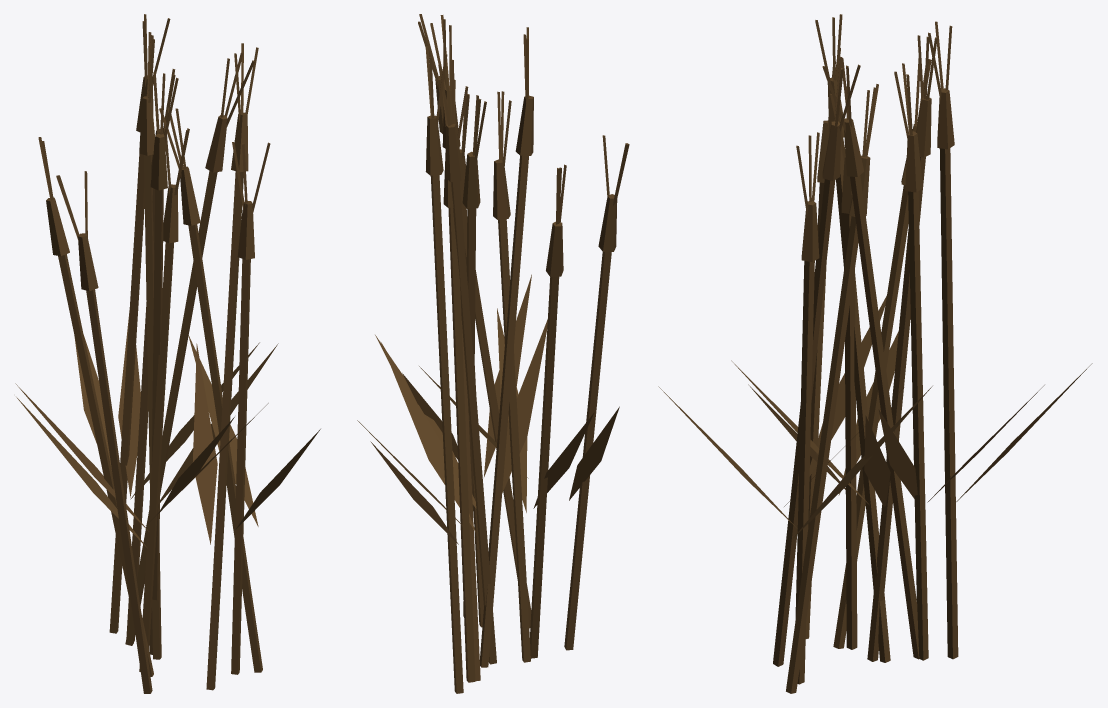
The model's file is barley_blight.glb.
3 renders of one model, left to right at view 1: azimuth 30°, elevation 25°; view 2: azimuth 150°, elevation 25°; view 3: azimuth 270°, elevation 25°, orthographic. The views are drawn at different scales.
Parts seen in each view (by area): view 1: barley; view 2: barley; view 3: barley.
Part boxes in pixels (left/top/right/bottom): barley: left=15, top=14, right=320, bottom=693; barley: left=357, top=14, right=629, bottom=693; barley: left=658, top=14, right=1092, bottom=693.
Bounding box in the file's own units: 0.3486 × 0.8073 × 0.4929.
